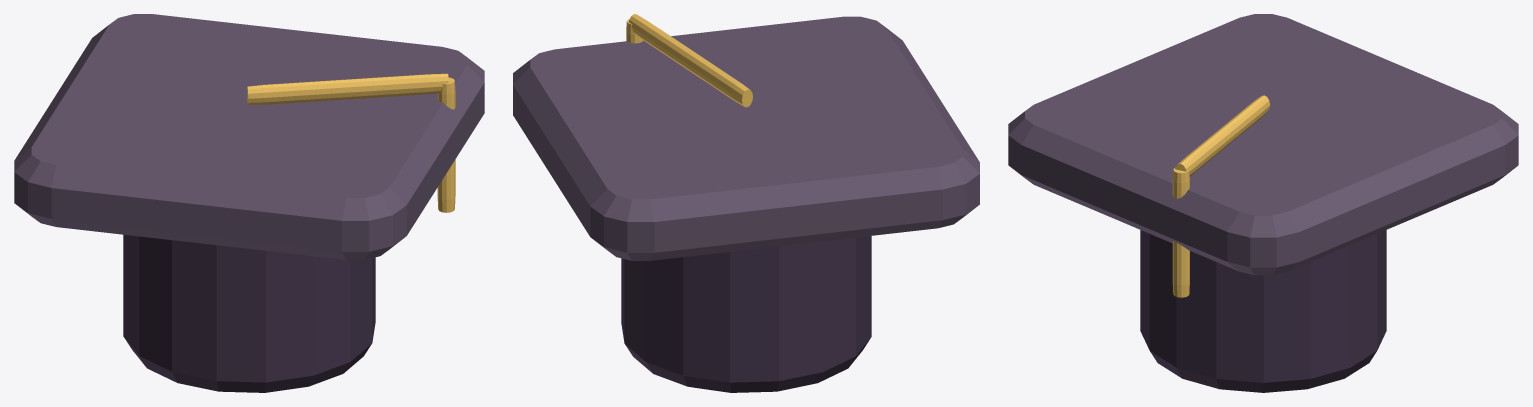
File: graduation_hat.glb
3 views of the same model, side by side, from view 1: azimuth 30°, elevation 25°; view 2: azimuth 150°, elevation 25°; view 3: azimuth 270°, elevation 25° (orthographic). The views are drawn at different scales.
Visible parts, largest first — view 1: model; view 2: model; view 3: model.
Part boxes in pixels (x1,y1,x2,y2): model: (14, 14, 484, 392); model: (513, 14, 979, 392); model: (1008, 14, 1518, 392).
Bounding box in the file's own units: 0.4 × 0.22 × 0.4.
